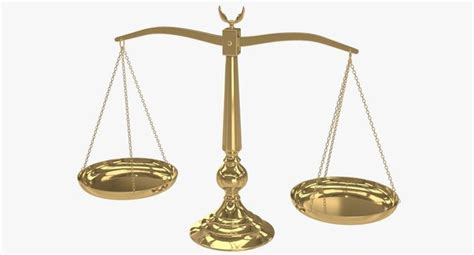Industrial Scale: (76, 5, 400, 251)
